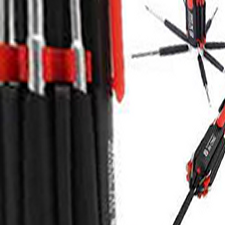Screwdriver: (132, 1, 225, 107), (163, 107, 225, 225)
